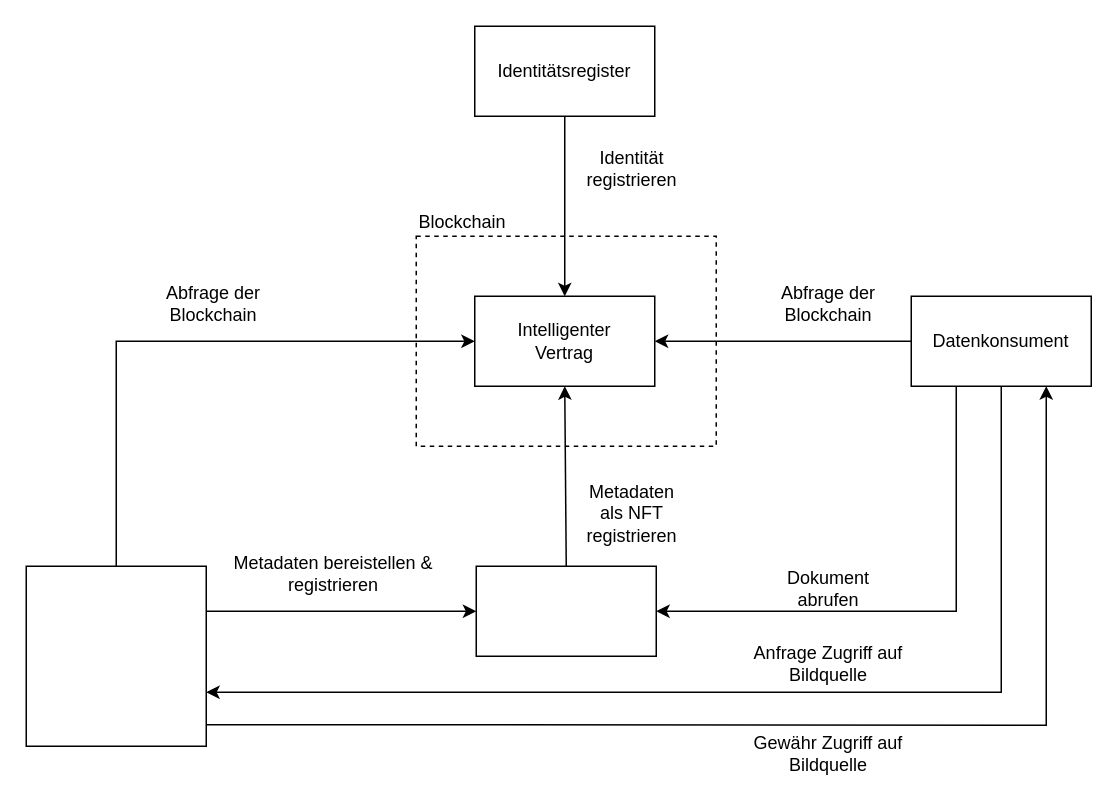
This 1118x803 diagram has some shape labels left out. The shapes that lost their labels are listed below. From the top down, each one's centre as x and y in pixels, then its label:
At (x=565, y=610): "IPFS- Repository".
At (x=115, y=655): "Bildgebende Dokumentenquelle".
